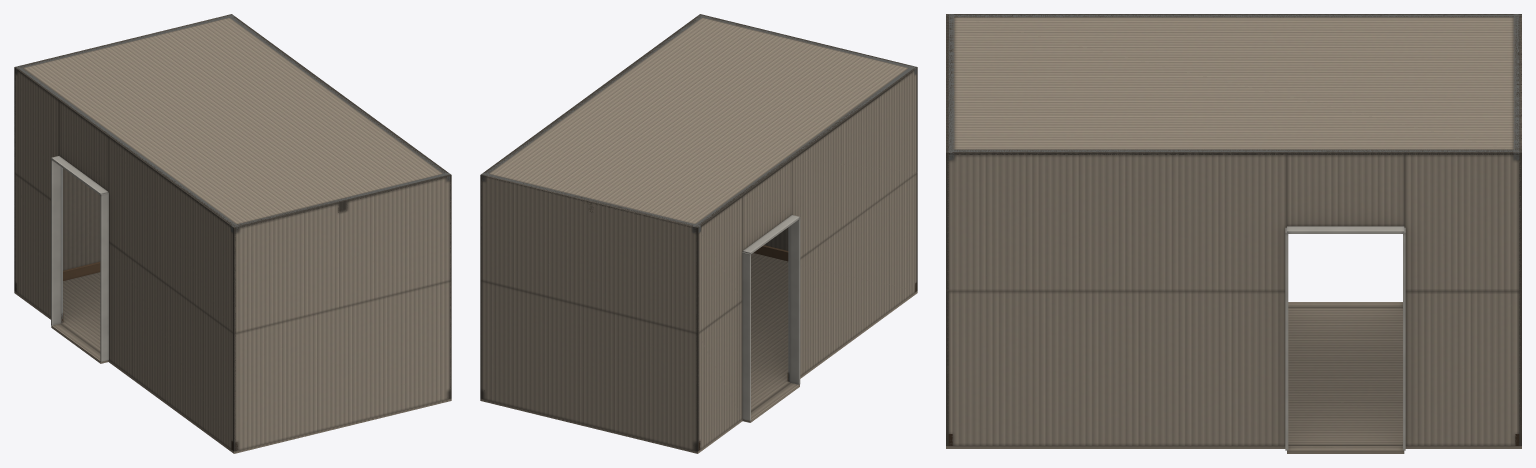
The model's file is house_int_vest.glb.
The picture shows the model from 3 angles, left to right: view 1: azimuth 30°, elevation 25°; view 2: azimuth 150°, elevation 25°; view 3: azimuth 270°, elevation 25°; orthographic projection. The views are drawn at different scales.
Visible parts, largest first — view 1: house_int_vest; view 2: house_int_vest; view 3: house_int_vest.
Part boxes in pixels (bbox=[...]): house_int_vest: bbox=[14, 14, 451, 453]; house_int_vest: bbox=[480, 14, 917, 453]; house_int_vest: bbox=[946, 14, 1521, 453].
Bounding box in the file's own units: 3 × 2.78 × 4.9.
Materials: 1 (1 with a texture image).
